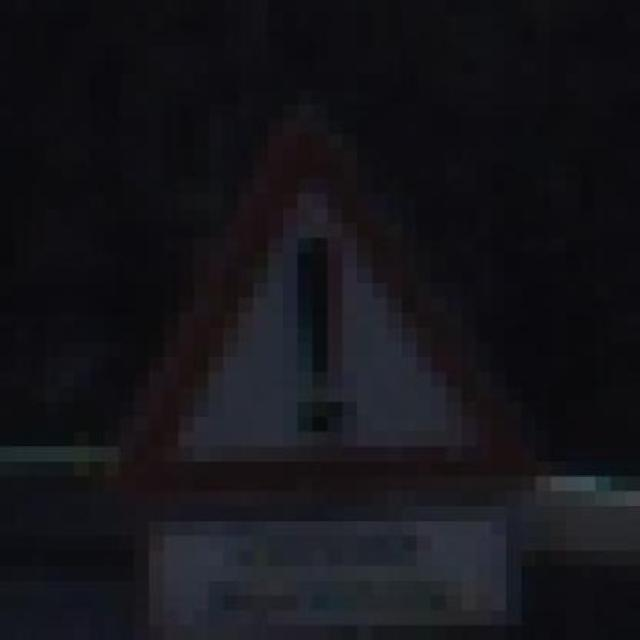Attention Please-: (104, 74, 521, 506)
